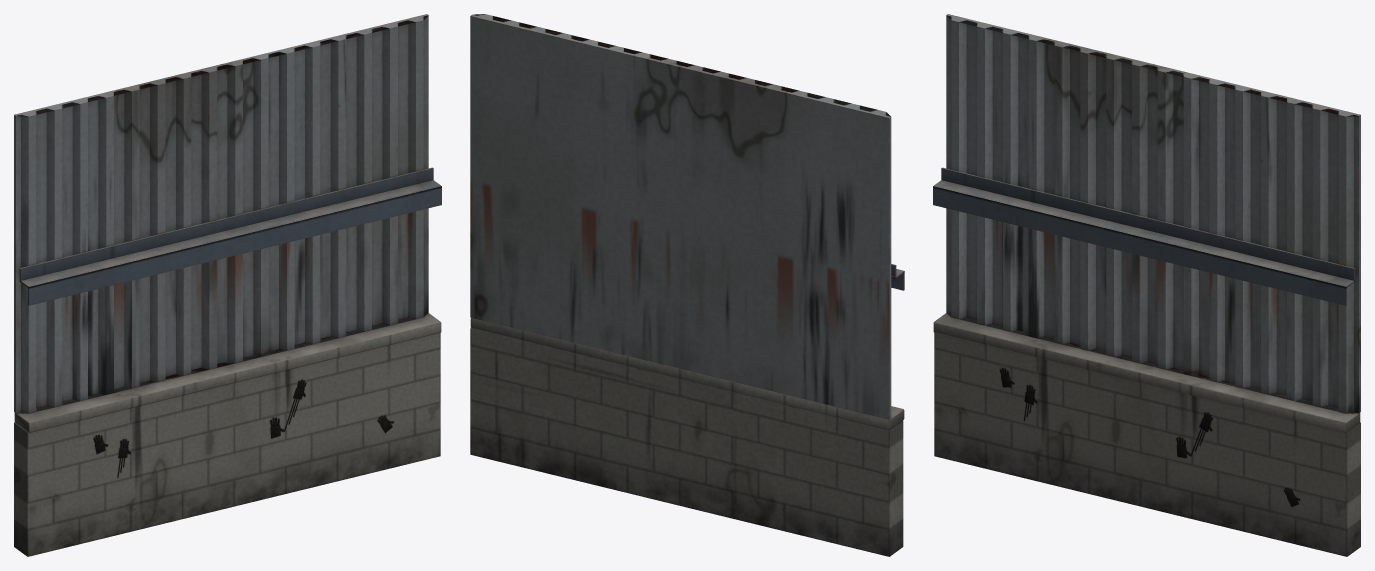
Rendered from wall_oily.fbx.
3 views of the same model, side by side, from view 1: azimuth 30°, elevation 25°; view 2: azimuth 150°, elevation 25°; view 3: azimuth 330°, elevation 25° (orthographic).
Visible parts, largest first — view 1: Body; view 2: Body; view 3: Body.
Part boxes in pixels (x1=…): Body: x1=14, y1=14, x2=441, y2=556; Body: x1=470, y1=14, x2=904, y2=556; Body: x1=933, y1=14, x2=1360, y2=556.
Bounding box in the file's own units: 16 × 16 × 1.
Materials: 1 (1 with a texture image).
